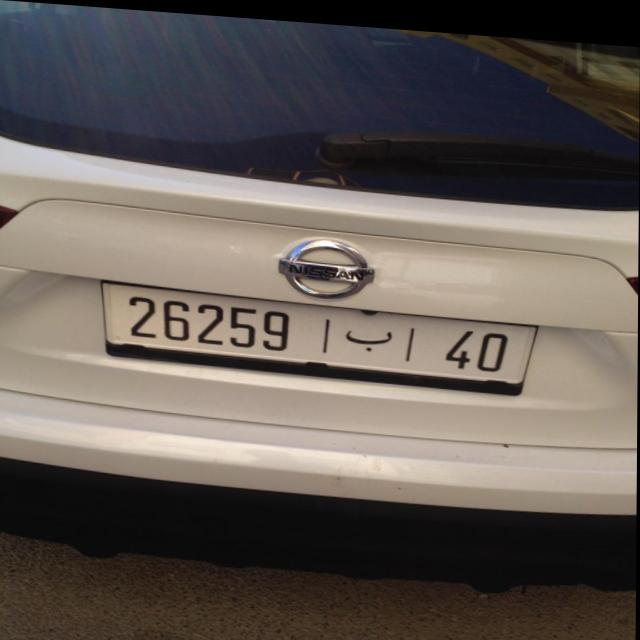License-Plate: (103, 282, 537, 387)
